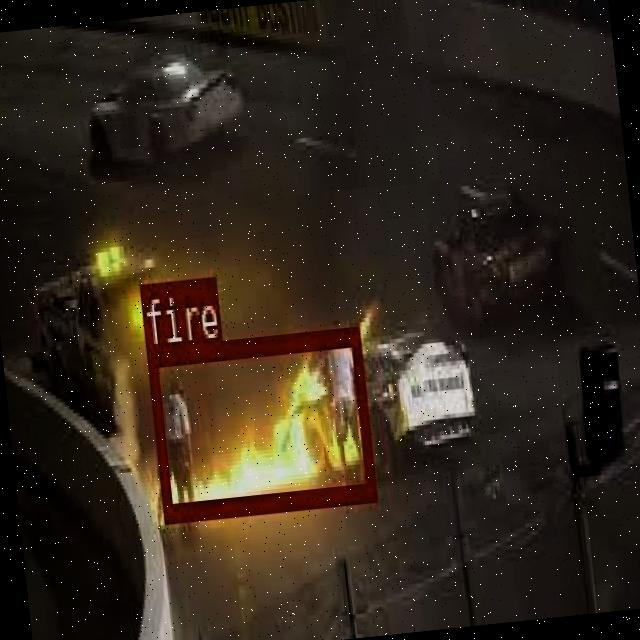fire: (144, 324, 374, 520)
